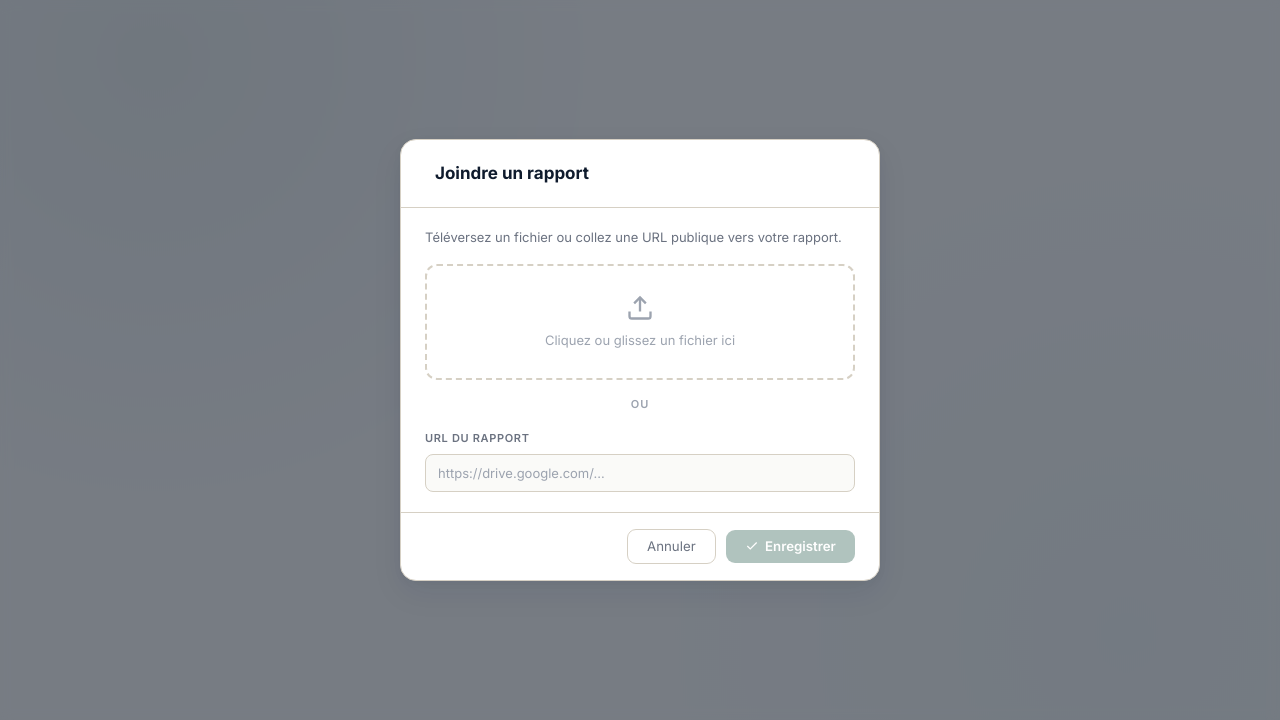
Test: ProjetRapportModal.vue — Tests d'Intégration › 14 — saisie d'une URL active le bouton .btn-save
Type "https://drive.google.com/rapport.pdf" into the field with class "form-input" at x=640, y=472, box [425, 454, 855, 492]
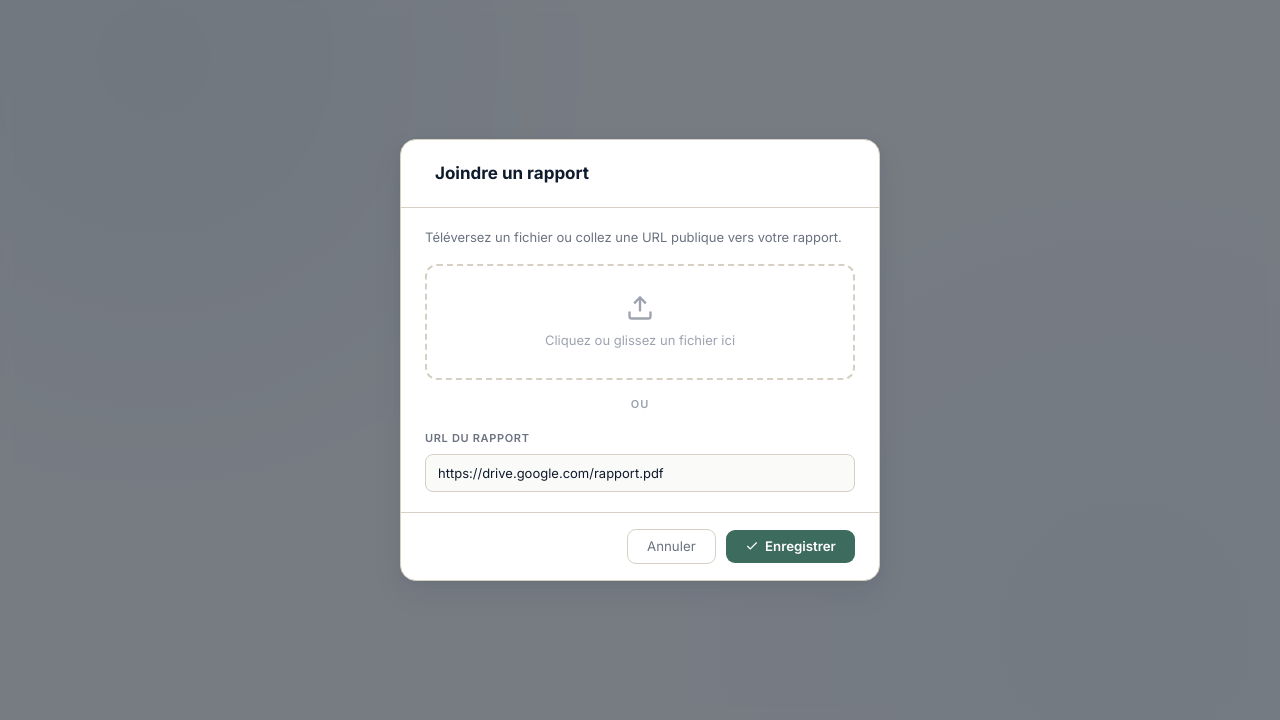
Now the button with class "btn-save" is enabled, box [726, 530, 855, 563]
